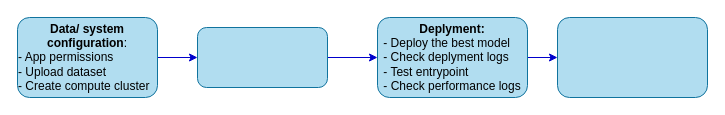
This 725x115 diagram has some shape labels left out. The centre of each missing label's shape, as x and y in pixels:
"Pipeline - Create Pipeline - Deploy pipeline - Consume pipeline" belongs at point 632,57.
"Train ML model: - Automl configuration - Train Automl" belongs at point 262,57.
